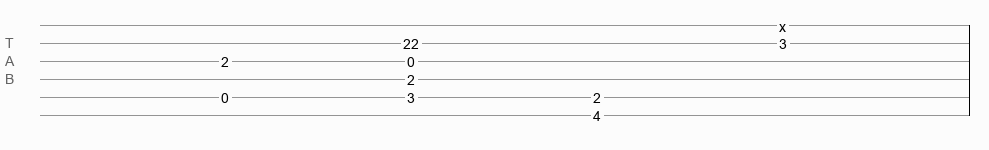0: (221, 90, 229, 100), (407, 54, 415, 64)
2: (221, 54, 229, 64), (407, 72, 415, 82), (593, 90, 601, 100)
22: (403, 36, 419, 46)
3: (407, 90, 415, 100), (779, 36, 787, 46)
4: (593, 108, 601, 118)
x: (779, 19, 786, 27)
